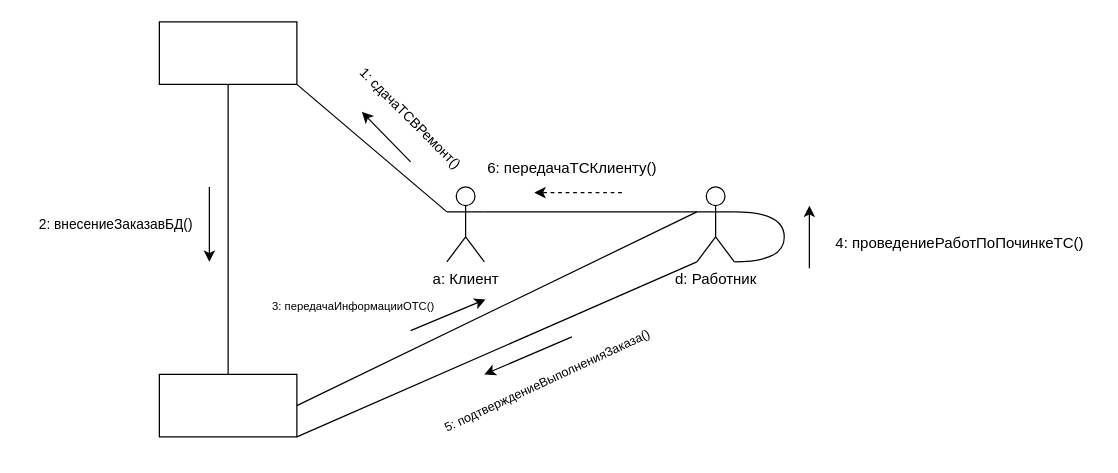
Image size: 1118x473. Some labels were removed from this diagram. The box of each missing label's shape, as (x1, y1, x2, y2) in pixels:
b: Менеджер автосервиса: (158, 21, 297, 84)
c: БД заказов: (158, 373, 297, 437)
